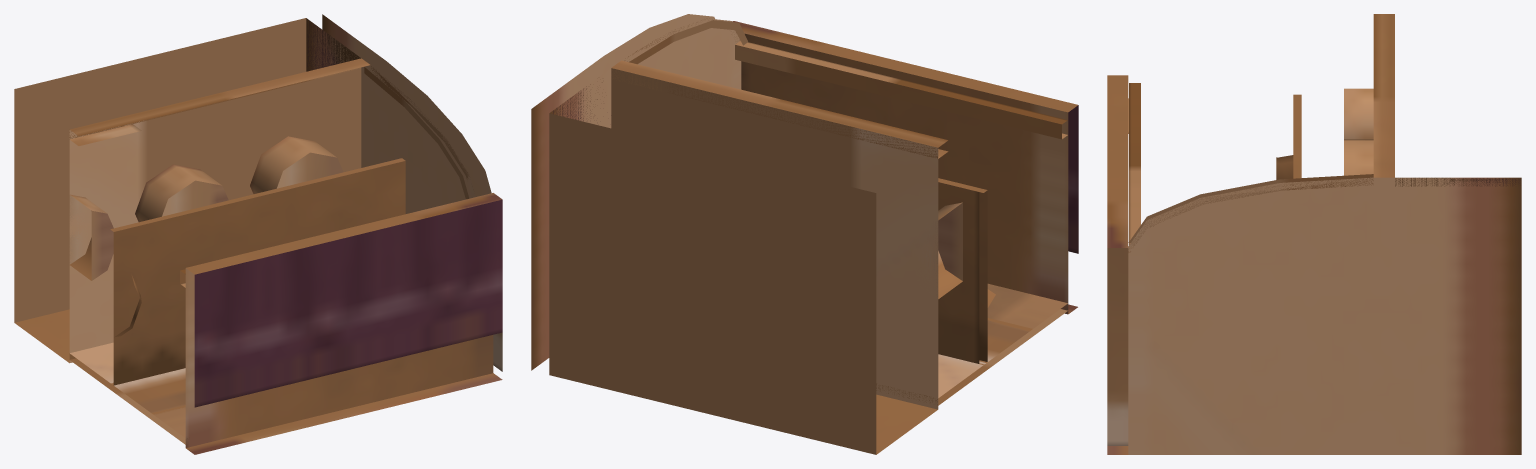
The model's file is section-7.obj.
3 renders of one model, left to right at view 1: azimuth 30°, elevation 25°; view 2: azimuth 150°, elevation 25°; view 3: azimuth 270°, elevation 25°, orthographic. The views are drawn at different scales.
Size of the model in its own units: 0.965 by 0.7 by 0.98.
